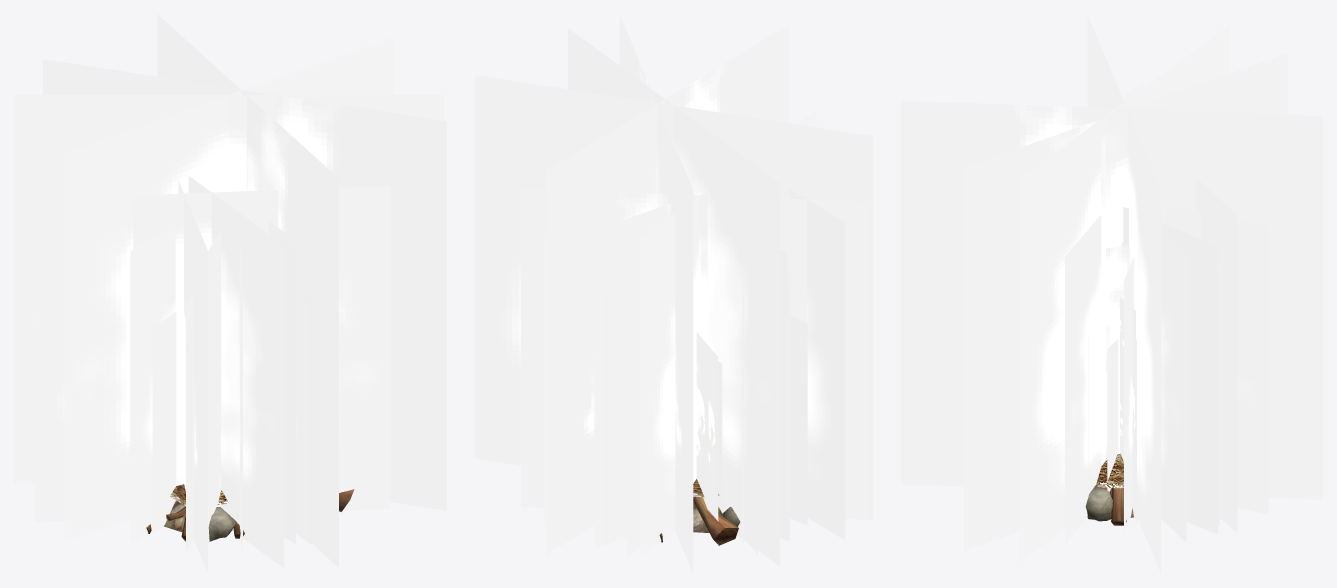
The model's file is a_bonfire02.glb.
3 views of the same model, side by side, from view 1: azimuth 30°, elevation 25°; view 2: azimuth 150°, elevation 25°; view 3: azimuth 270°, elevation 25° (orthographic).
Visible parts, largest first — view 1: a_bonfire02; view 2: a_bonfire02; view 3: a_bonfire02.
Part boxes in pixels (<box>): a_bonfire02: <box>14,14,446,572</box>; a_bonfire02: <box>475,14,872,573</box>; a_bonfire02: <box>901,15,1322,572</box>.
Bounding box in the file's own units: 2.52 × 2.58 × 2.54.
7 materials, 7 textured.
